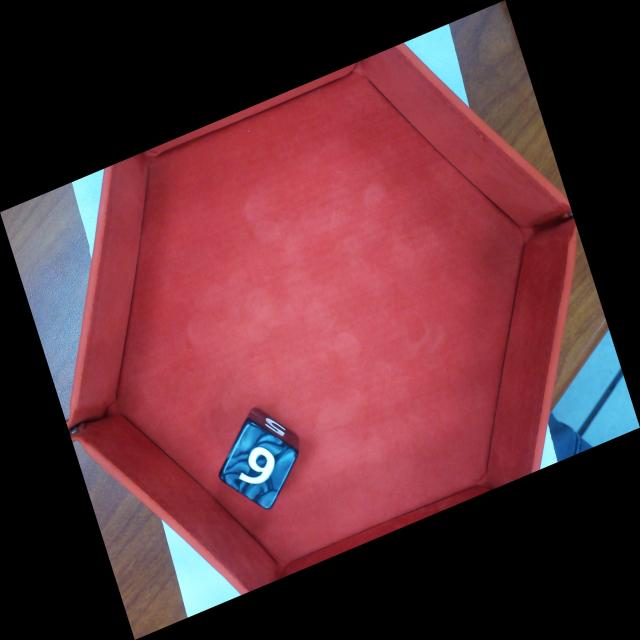dice: (219, 422, 297, 514)
